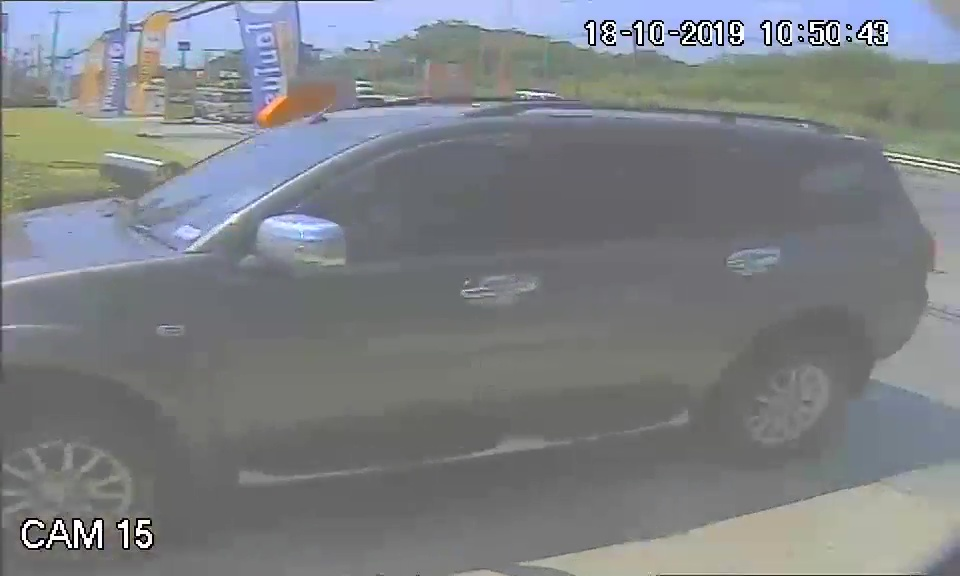pickup: (5, 93, 939, 501)
